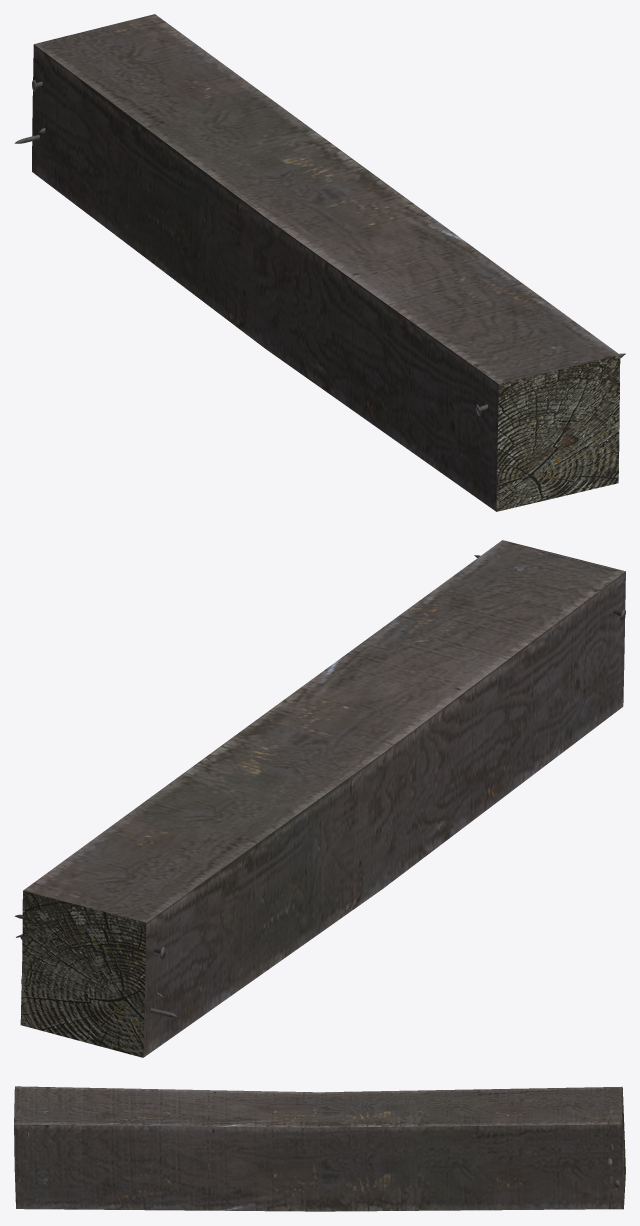
File: SM_FloorSideB200.FBX
3 renders of one model, top to bottom at view 1: azimuth 30°, elevation 25°; view 2: azimuth 150°, elevation 25°; view 3: azimuth 270°, elevation 25°, orthographic. The views are drawn at different scales.
Visible parts, largest first — view 1: SM_FloorSideB200_LOD0; view 2: SM_FloorSideB200_LOD0; view 3: SM_FloorSideB200_LOD0.
Part boxes in pixels (box(x1,y1,x2,y2)): SM_FloorSideB200_LOD0: box(14, 14, 625, 511); SM_FloorSideB200_LOD0: box(14, 540, 625, 1057); SM_FloorSideB200_LOD0: box(14, 1086, 625, 1211).
Size of what is drawn, in the model's own units: 40.4 by 32.69 by 202.
